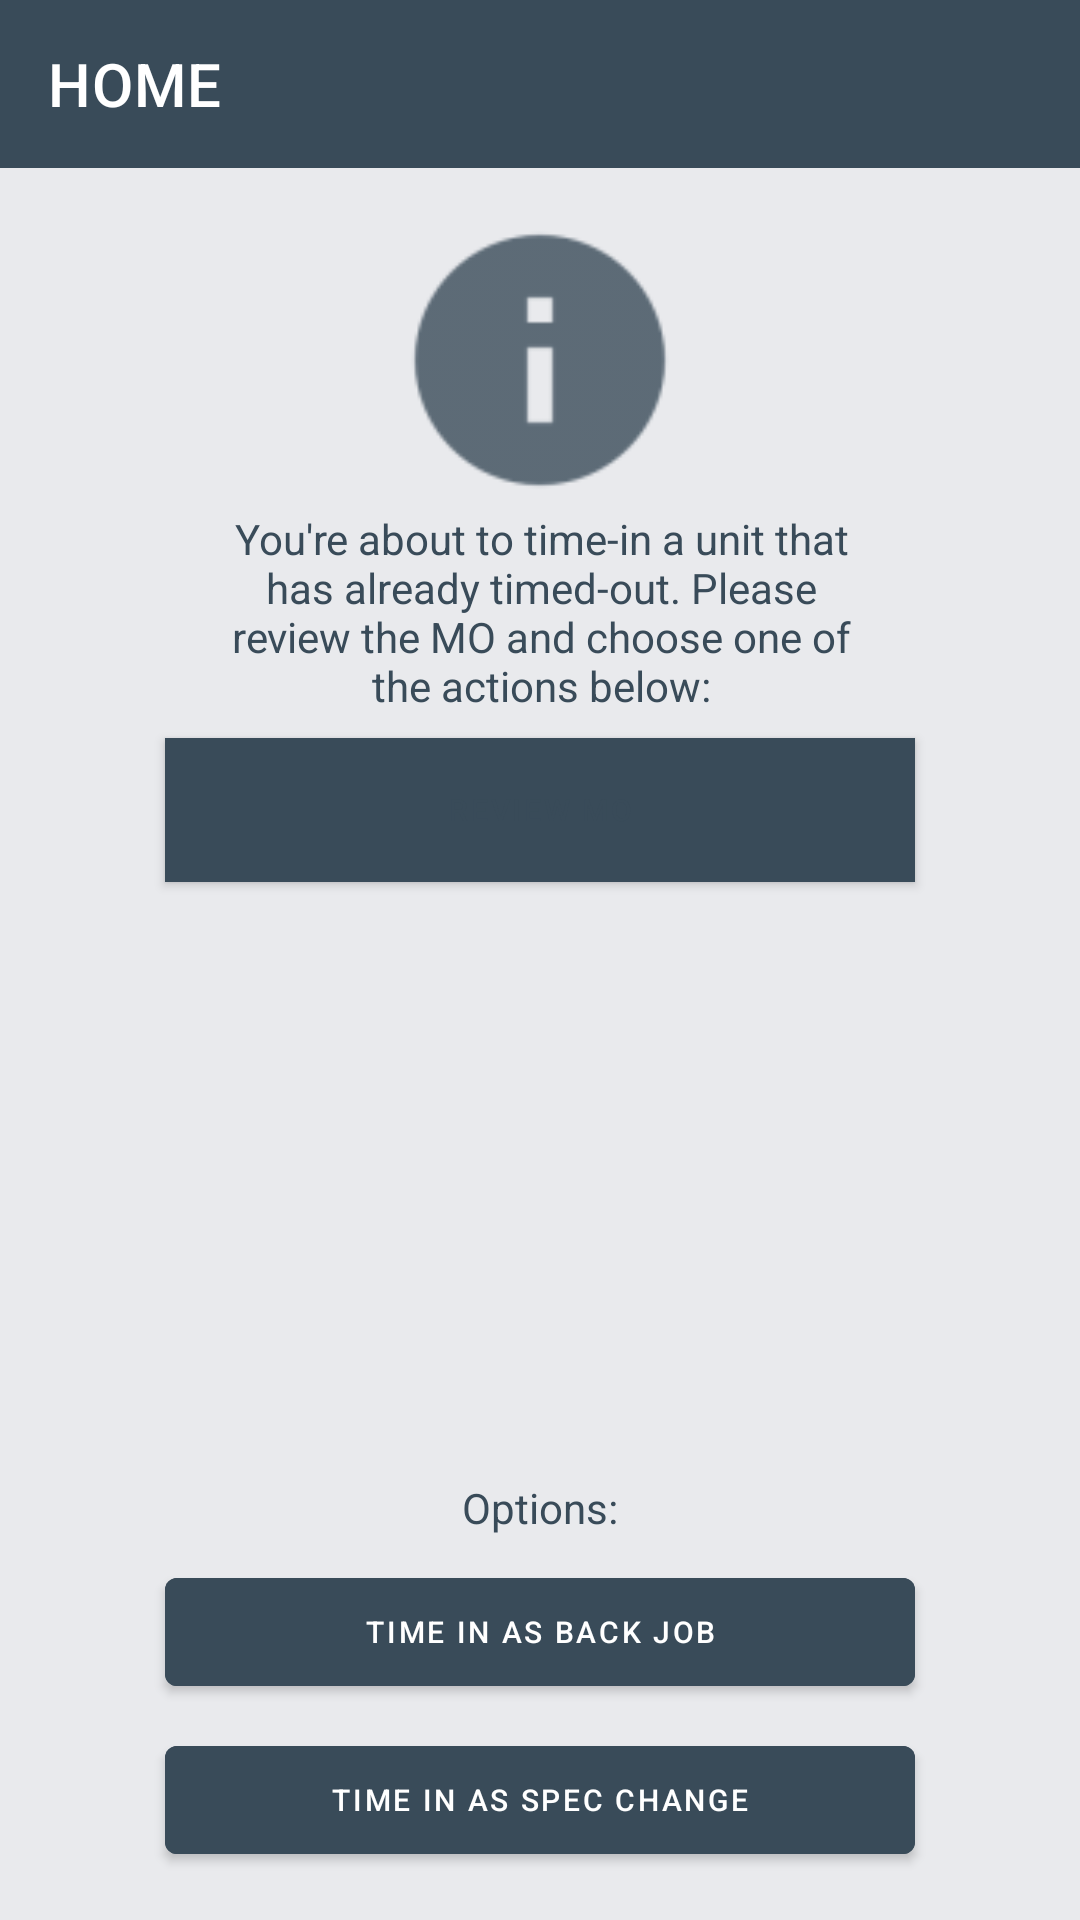

Screen size 1080x1920. Icon name, then its box in pixels as (x1, y1, x2, y2):
Notice: (414, 234, 666, 486)
